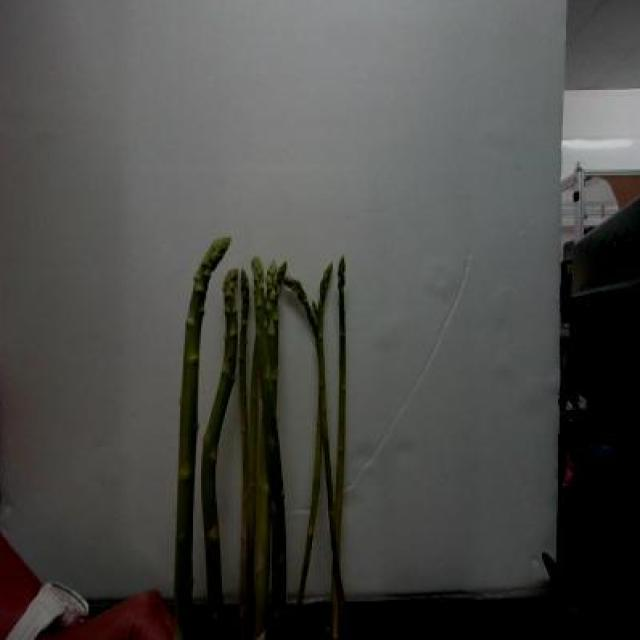aspargus: (174, 237, 233, 640), (198, 266, 239, 640), (329, 254, 349, 640)
